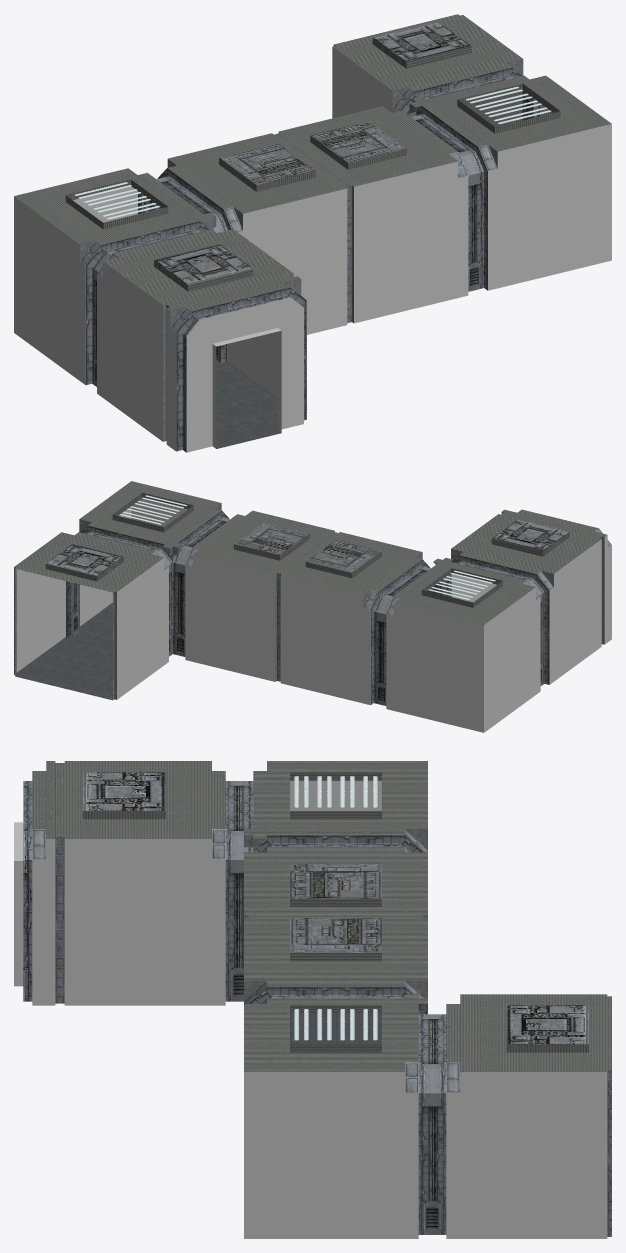
The model's file is poi_all_impl_bunker_research_facility_s01_r20_hall_mesh.fbx.
The picture shows the model from 3 angles, top to bottom: view 1: azimuth 30°, elevation 25°; view 2: azimuth 150°, elevation 25°; view 3: azimuth 270°, elevation 25°; orthographic projection. The views are drawn at different scales.
Parts seen in each view (by area): view 1: mesh_node; view 2: mesh_node; view 3: mesh_node.
Boxes of the visible parts, x1,y1,x2,y2 form: mesh_node: (14,14,611,452); mesh_node: (14,481,611,732); mesh_node: (14,761,611,1238).
Bounding box in the file's own units: 16 × 4.2 × 13.
